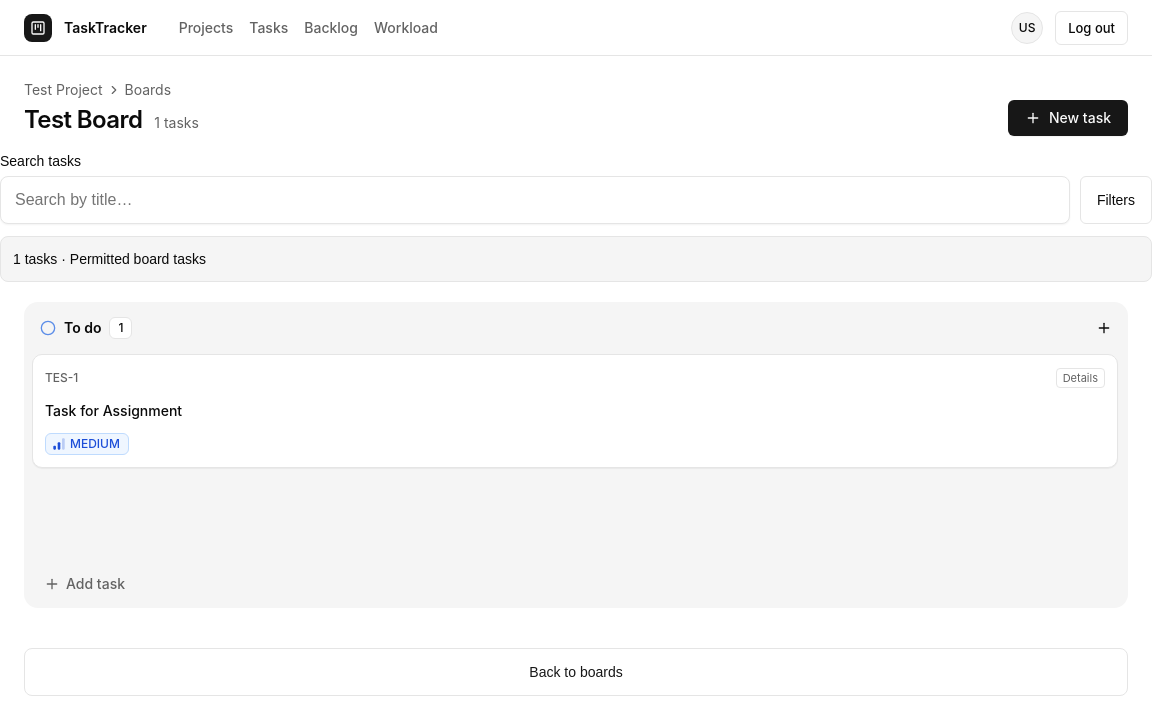
Test: US-12 Assign or unassign task members acceptance tests › allows Owner to assign a project member to an unassigned task from Task Details modal
The image size is (1152, 720).
Note: Open task details
Click the button with test id "task-card-t-1" at (62, 378), box 32,354 -> 1118,468
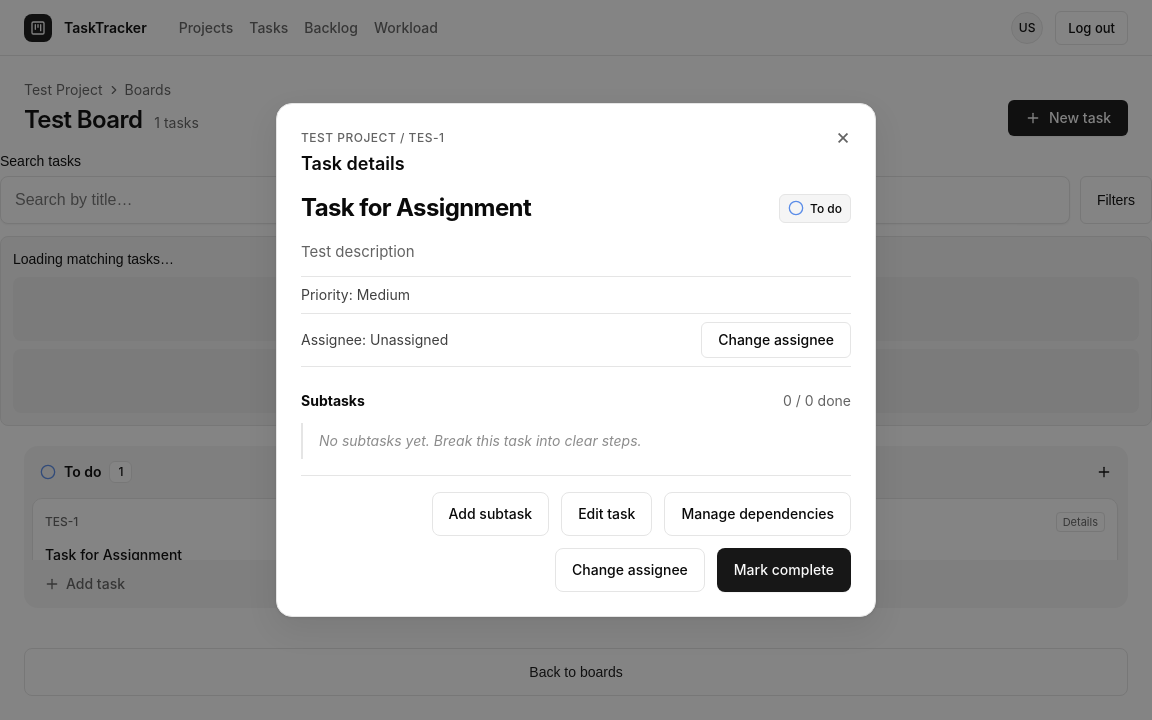
Expected: the dialog with test id "parent-task-details-modal" is shown
Note: Click "Change assignee" button
Click the button with test id "task-details-change-assignee-btn" at (776, 340), box 701,322 -> 851,358
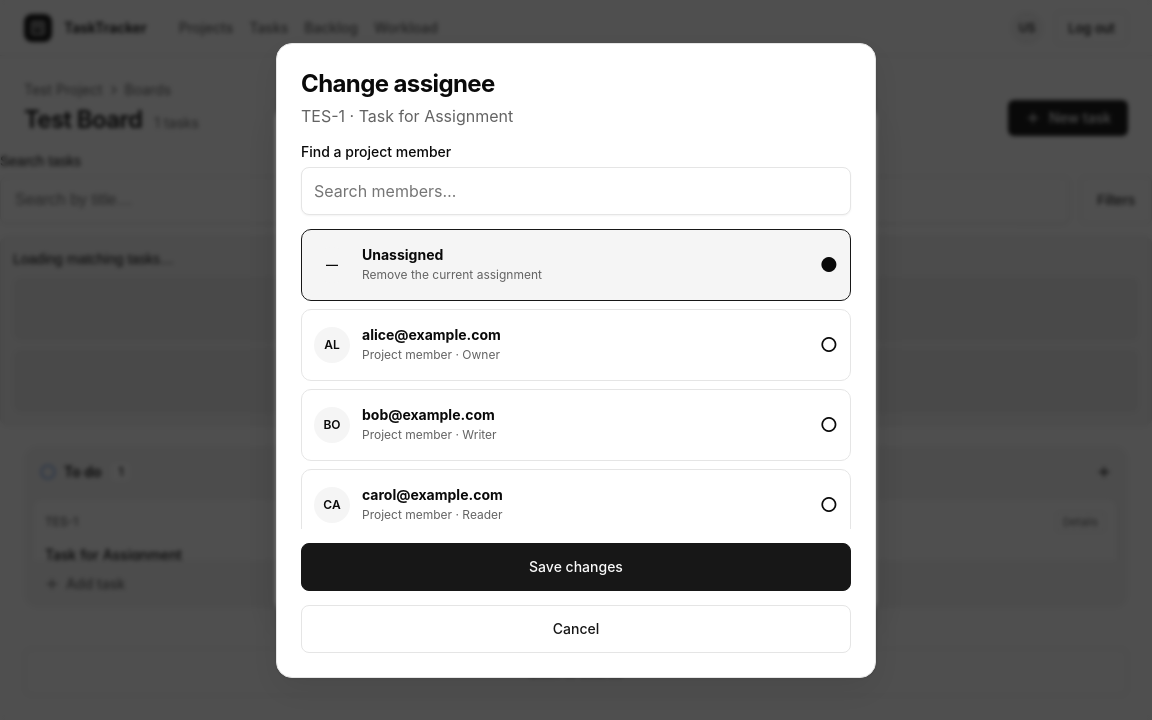
Expected: the dialog with test id "task-assignee-modal" is shown, 276,42 -> 876,678
Expected: the heading "Change assignee" is shown, 301,68 -> 495,100
Note: Select Bob (u-2)
Click the radio button with test id "assignee-option-u-2" at (576, 424), box 301,388 -> 851,460
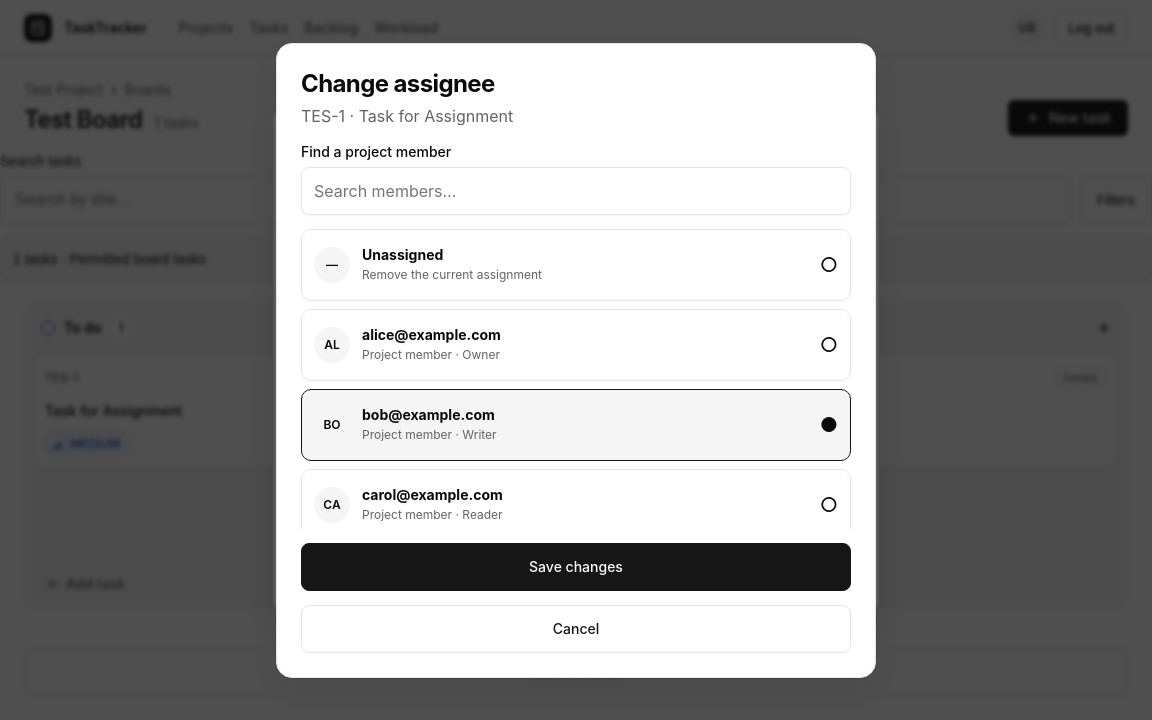
Note: Click "Save changes"
Click the button with test id "save-assignee-btn" at (576, 566), box 301,542 -> 851,590
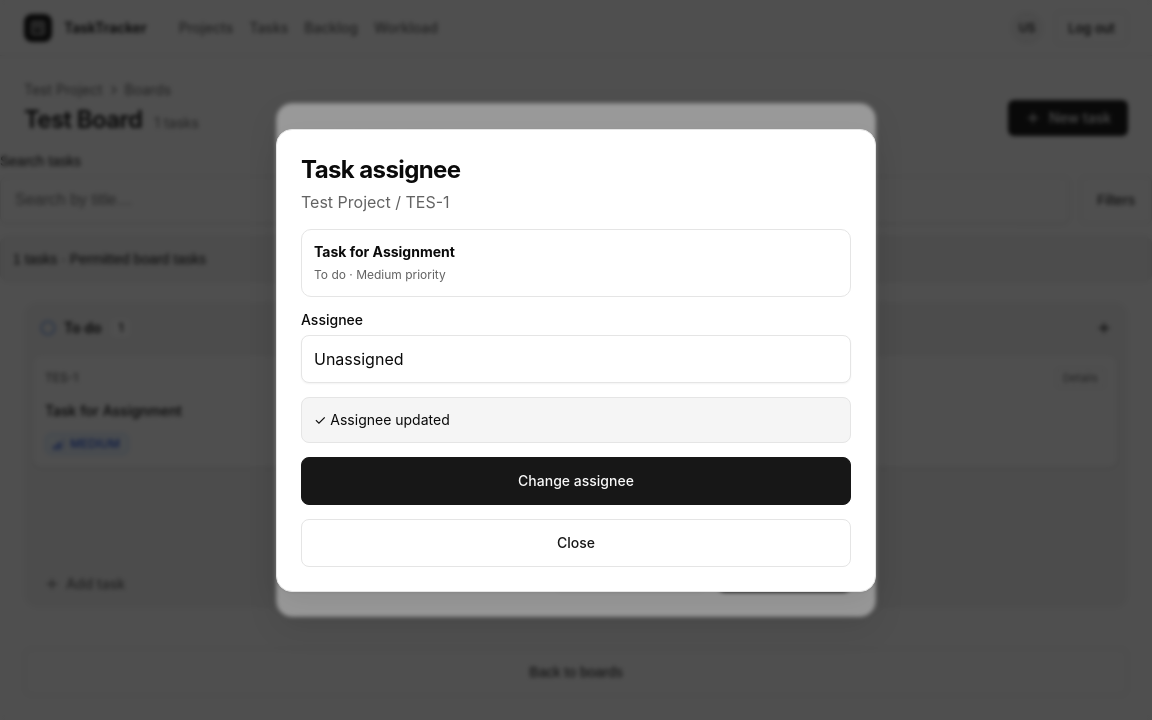
Expected: the message with test id "assignee-updated-banner" shows "Assignee updated", 314,410 -> 450,428
